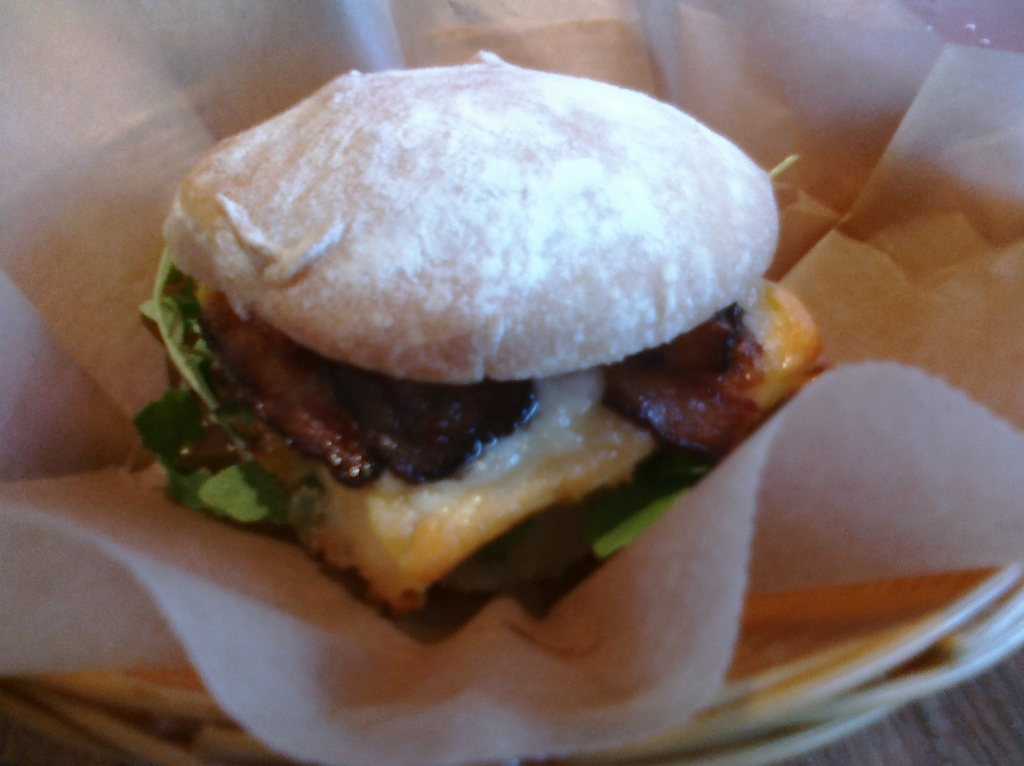Hamburger: (110, 48, 844, 625)
